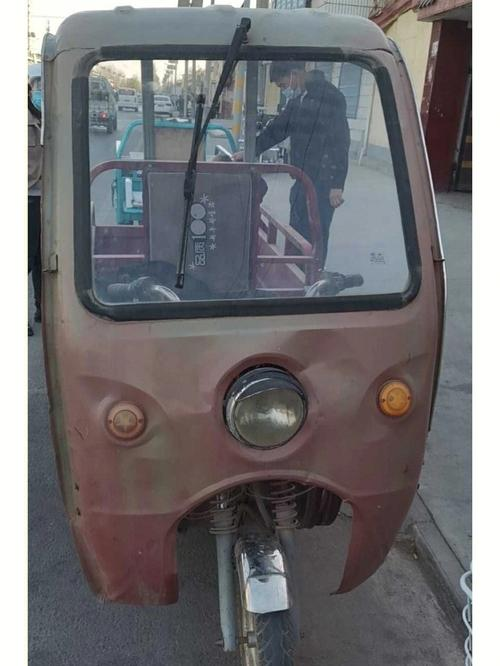empty: (43, 18, 452, 666)
